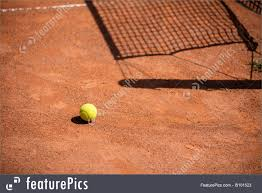tennis_ball: (78, 102, 96, 121)
